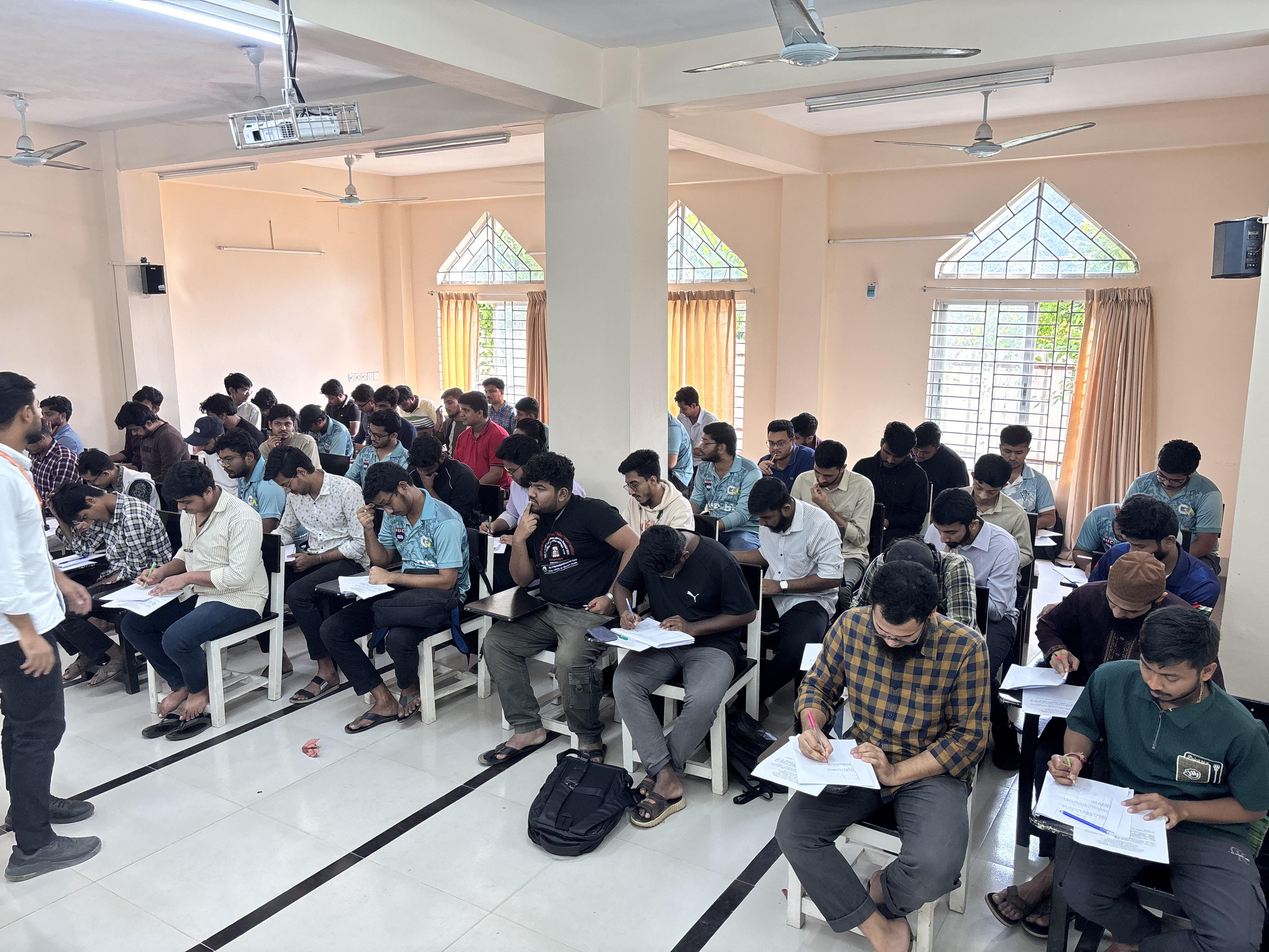copying: (219, 364, 258, 421)
invigilator: (0, 345, 107, 896)
no_cheating: (1065, 603, 1257, 894), (779, 556, 971, 847), (601, 512, 755, 711), (497, 452, 618, 688), (1026, 546, 1193, 707), (339, 459, 460, 645), (127, 456, 256, 614), (713, 471, 843, 598), (253, 440, 365, 581), (1125, 427, 1235, 541), (51, 480, 163, 586), (799, 436, 881, 554), (927, 486, 1017, 593), (606, 431, 686, 543), (477, 414, 540, 532), (862, 422, 932, 510), (211, 426, 274, 521), (108, 399, 187, 471), (752, 409, 815, 494), (963, 452, 1023, 532), (985, 409, 1042, 490), (407, 421, 463, 502), (63, 437, 135, 492), (452, 386, 501, 465), (913, 414, 963, 486), (359, 406, 407, 468), (259, 398, 306, 449), (179, 416, 226, 464), (317, 373, 354, 429), (41, 388, 80, 439), (479, 368, 511, 416), (436, 382, 465, 430)
side_talking: (683, 411, 763, 540), (670, 367, 713, 444), (505, 392, 542, 427)
